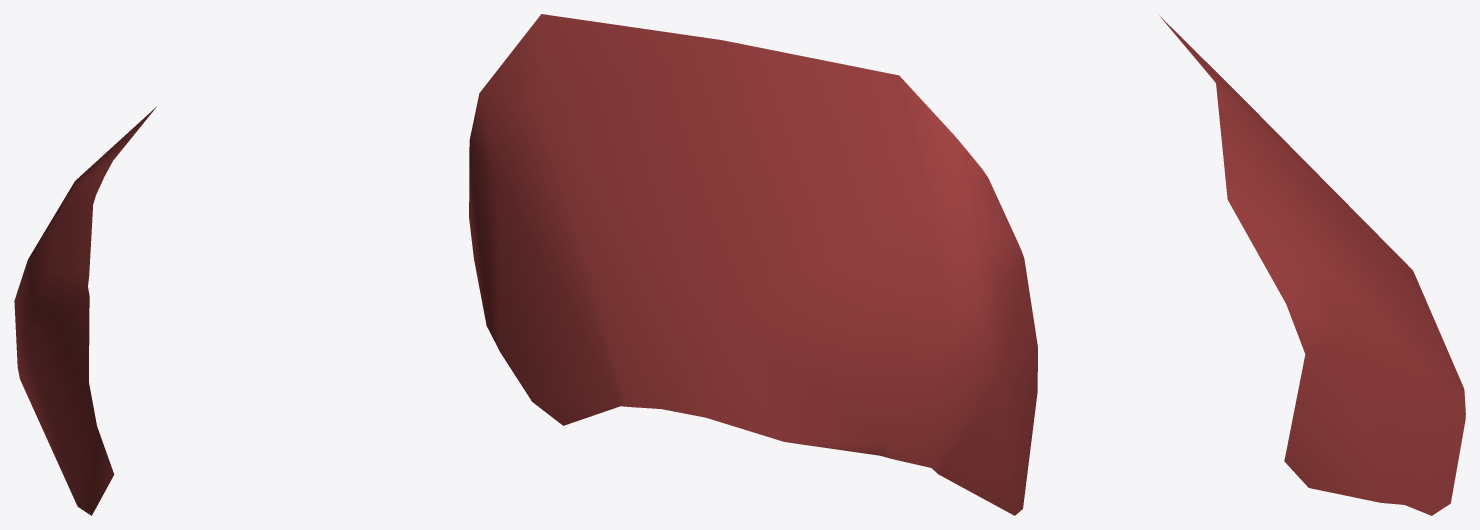
The model's file is triceps-brachii-muscle-el.glb.
The picture shows the model from 3 angles, left to right: view 1: azimuth 30°, elevation 25°; view 2: azimuth 150°, elevation 25°; view 3: azimuth 270°, elevation 25°; orthographic projection. The views are drawn at different scales.
Parts seen in each view (by area): view 1: Triceps brachii muscle.el; view 2: Triceps brachii muscle.el; view 3: Triceps brachii muscle.el.
Boxes of the visible parts, x1,y1,x2,y2 form: Triceps brachii muscle.el: [14, 107, 156, 515]; Triceps brachii muscle.el: [469, 14, 1037, 515]; Triceps brachii muscle.el: [1159, 15, 1465, 515].
Bounding box in the file's own units: 0.022 × 0.0185 × 0.0128.
